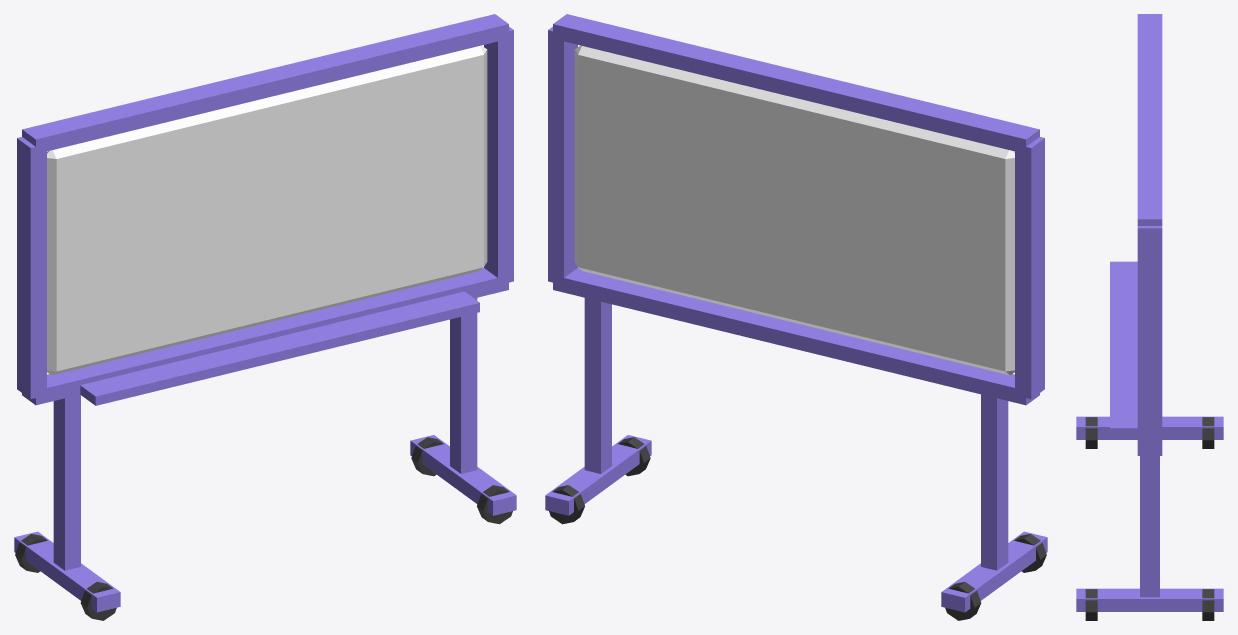
The picture shows the model from 3 angles, left to right: view 1: azimuth 30°, elevation 25°; view 2: azimuth 150°, elevation 25°; view 3: azimuth 270°, elevation 25°; orthographic projection. The views are drawn at different scales.
Parts seen in each view (by area): view 1: Writing surface, Frame rail.001, Marker ledge, Frame rail, Frame upright, Frame upright.001, Stand, Stand.001, Caster beam, Caster beam.001; view 2: Writing surface, Frame rail.001, Frame rail, Frame upright, Frame upright.001, Stand.001, Stand, Caster beam, Caster beam.001; view 3: Frame upright.001, Frame rail.001, Marker ledge, Caster beam.001, Stand.001, Caster beam, Wheel, Wheel.001, Wheel.002, Wheel.003.
Boxes of the visible parts, left/top/right/bottom form: Writing surface: left=47, top=45, right=487, bottom=375; Frame rail.001: left=22, top=14, right=508, bottom=153; Marker ledge: left=80, top=291, right=479, bottom=405; Frame rail: left=22, top=268, right=508, bottom=405; Frame upright: left=17, top=137, right=46, bottom=399; Frame upright.001: left=484, top=26, right=513, bottom=285; Stand: left=53, top=394, right=80, bottom=570; Stand.001: left=450, top=298, right=477, bottom=473; Caster beam: left=14, top=531, right=120, bottom=612; Caster beam.001: left=410, top=435, right=516, bottom=515; Writing surface: left=574, top=45, right=1014, bottom=375; Frame rail.001: left=553, top=14, right=1039, bottom=151; Frame rail: left=553, top=268, right=1039, bottom=405; Frame upright: left=1015, top=137, right=1044, bottom=399; Frame upright.001: left=548, top=26, right=577, bottom=282; Stand.001: left=584, top=298, right=611, bottom=473; Stand: left=981, top=394, right=1008, bottom=570; Caster beam: left=941, top=531, right=1047, bottom=612; Caster beam.001: left=545, top=435, right=651, bottom=515; Frame upright.001: left=1137, top=226, right=1162, bottom=451; Frame rail.001: left=1137, top=14, right=1162, bottom=225; Marker ledge: left=1110, top=261, right=1137, bottom=436; Caster beam.001: left=1076, top=588, right=1223, bottom=611; Stand.001: left=1140, top=456, right=1159, bottom=597; Caster beam: left=1076, top=416, right=1223, bottom=439; Wheel: left=1085, top=417, right=1097, bottom=448; Wheel.001: left=1202, top=417, right=1214, bottom=448; Wheel.002: left=1085, top=589, right=1097, bottom=620; Wheel.003: left=1202, top=589, right=1214, bottom=620.
Bounding box in the file's own units: 162 × 150 × 48.
